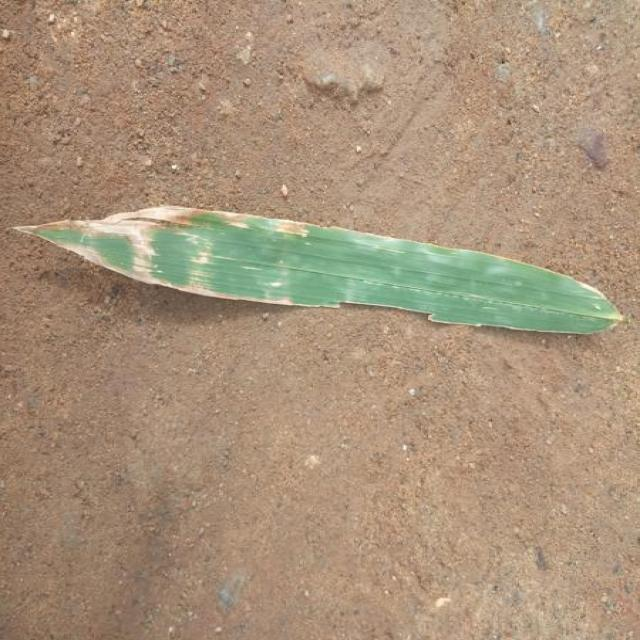Bamboo: (17, 206, 622, 333)
defectedBamboo: (17, 206, 298, 304)
